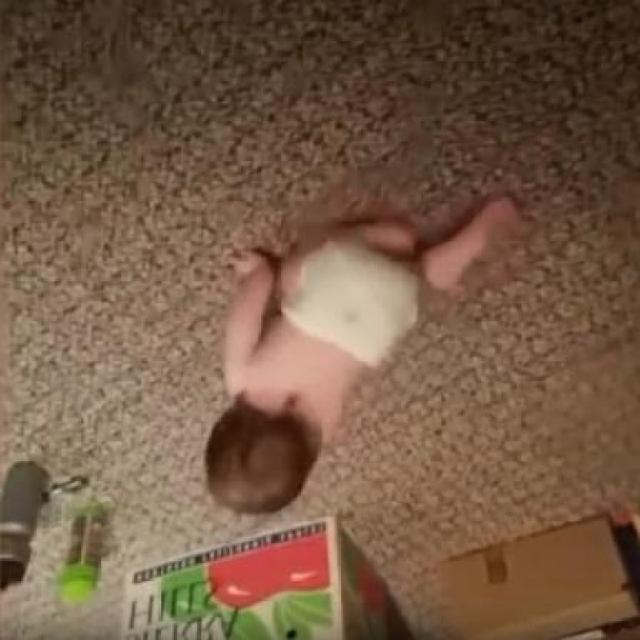baby: (204, 191, 524, 518)
